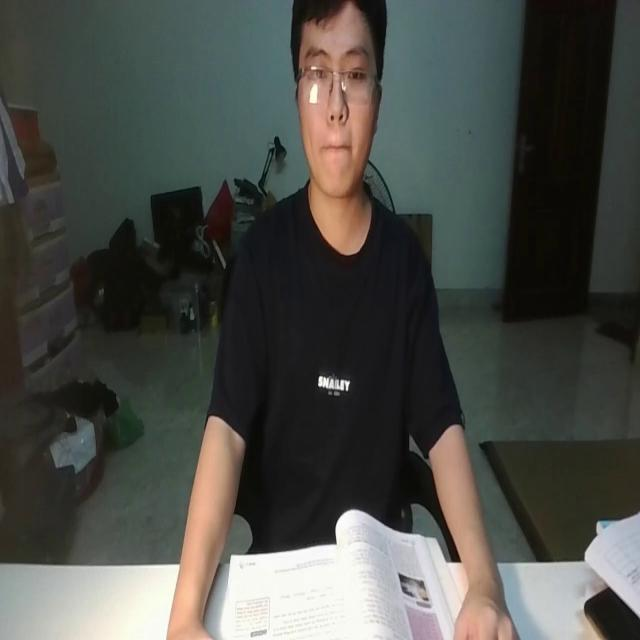student: (160, 0, 520, 640)
